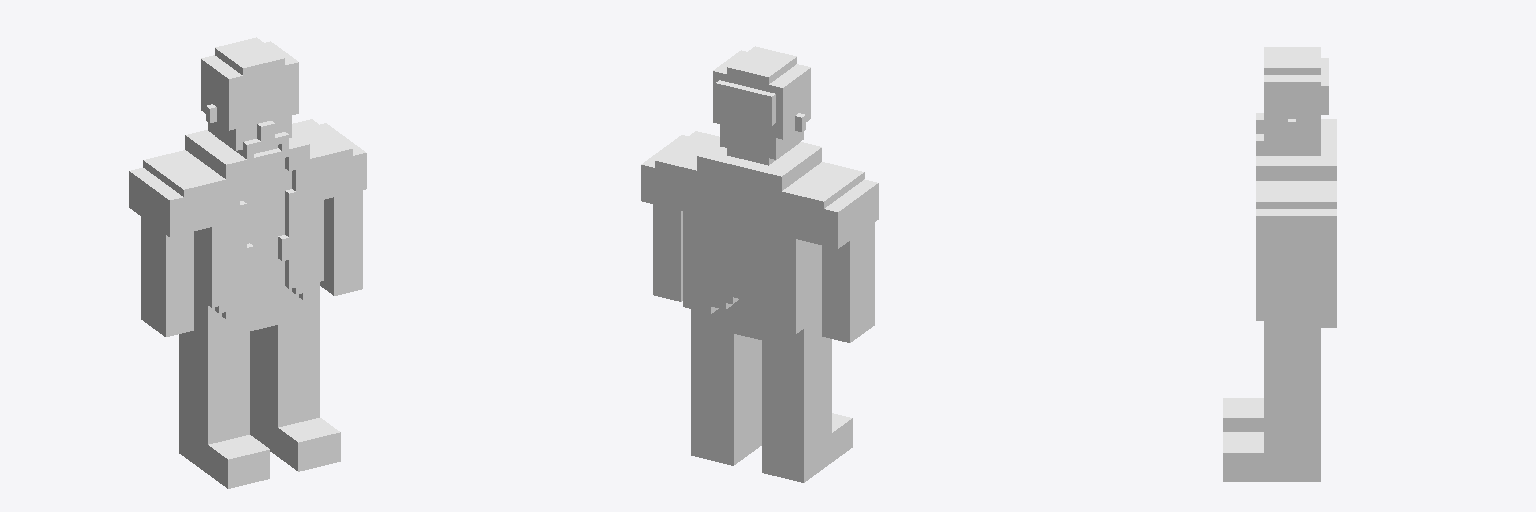
File: Lenhador.obj
3 renders of one model, left to right at view 1: azimuth 30°, elevation 25°; view 2: azimuth 150°, elevation 25°; view 3: azimuth 270°, elevation 25°, orthographic.
Size of the model in its own units: 28 by 54 by 14.